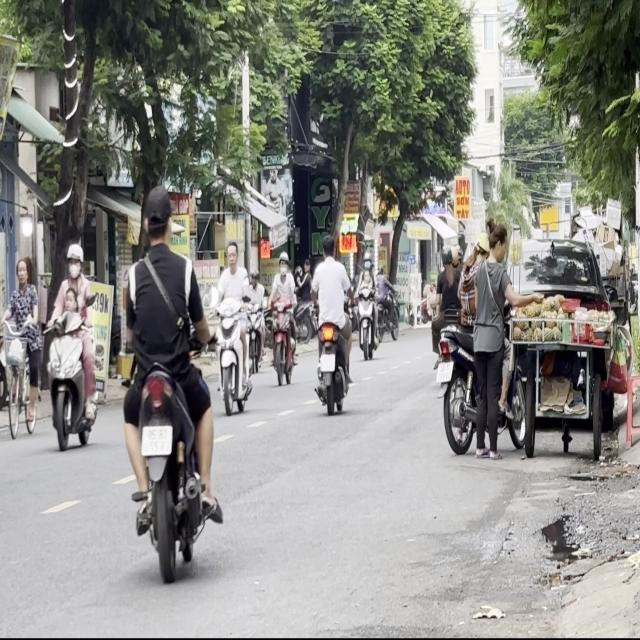helmet: (65, 241, 84, 278)
licenseplate: (118, 181, 220, 578), (44, 241, 100, 451), (310, 232, 353, 412), (212, 238, 252, 416)
motorcyclist: (142, 186, 174, 247), (224, 239, 239, 271), (64, 288, 77, 318), (321, 232, 336, 257)
nohelmet: (141, 425, 172, 456), (436, 360, 453, 381), (320, 354, 335, 372)
